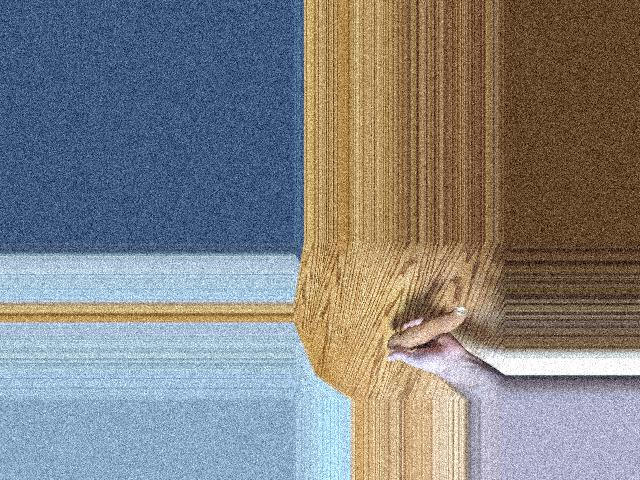sweet_potato: (383, 307, 468, 348)
